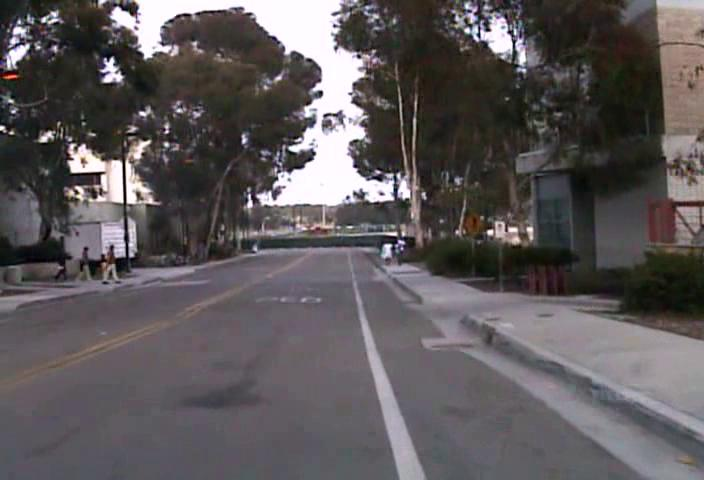pedestrianCrossing: (463, 208, 484, 238)
